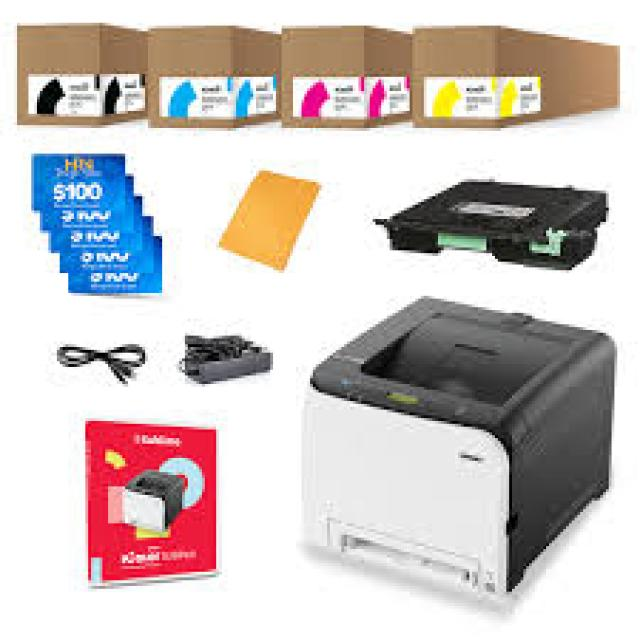printer: (299, 293, 617, 612)
